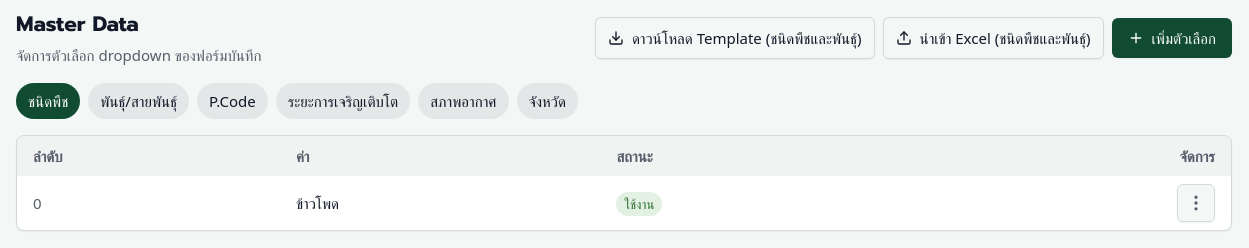
Test: MasterData — rounds 8-14E/8-14E.1: tab selection + CRUD regression › switching to a remaining tab refetches with that type
Check: the text "ข้าวโพด" is shown, box top-left (280, 176), bottom-right (600, 230)
Click the button "สภาพอากาศ".
click(463, 101)  # box top-left (418, 83), bottom-right (508, 119)
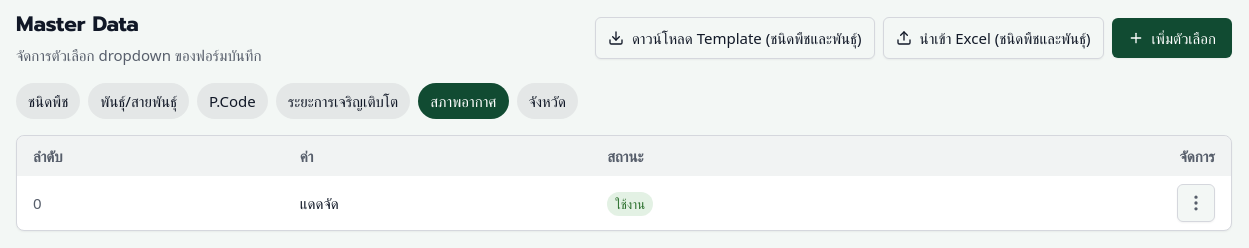
Check: the text "แดดจัด" is shown, box top-left (284, 176), bottom-right (591, 230)
